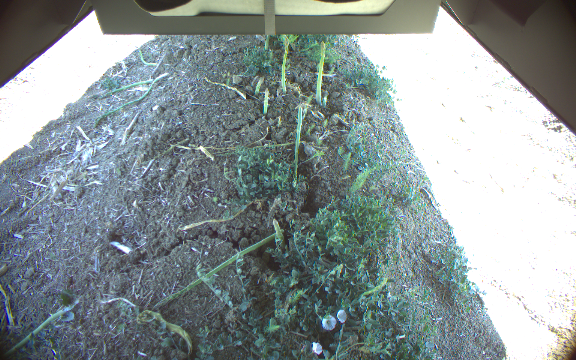aspa: (292, 105, 305, 184), (314, 40, 327, 105), (362, 275, 389, 300), (280, 36, 290, 93), (270, 217, 283, 242), (253, 75, 265, 96), (262, 87, 270, 116)
